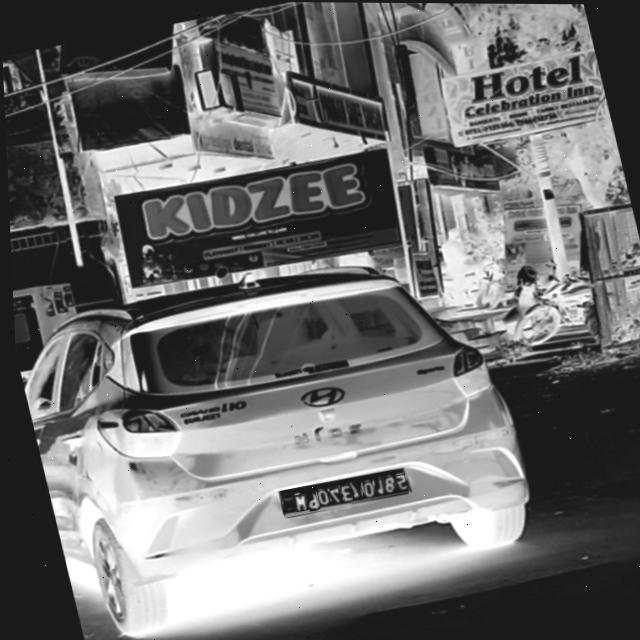0: (311, 488, 326, 506), (358, 480, 371, 498)
1: (369, 478, 381, 496)
4: (324, 486, 338, 504)
5: (390, 473, 404, 492)
8: (379, 475, 394, 494)
C: (347, 481, 360, 501)
E: (335, 483, 350, 503)
IND: (278, 494, 290, 509)
Indian_registered: (276, 468, 406, 515)
M: (289, 494, 304, 512)
P: (301, 490, 315, 512)
